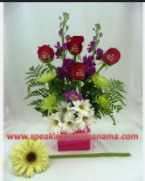RedRose: (67, 32, 87, 58)
